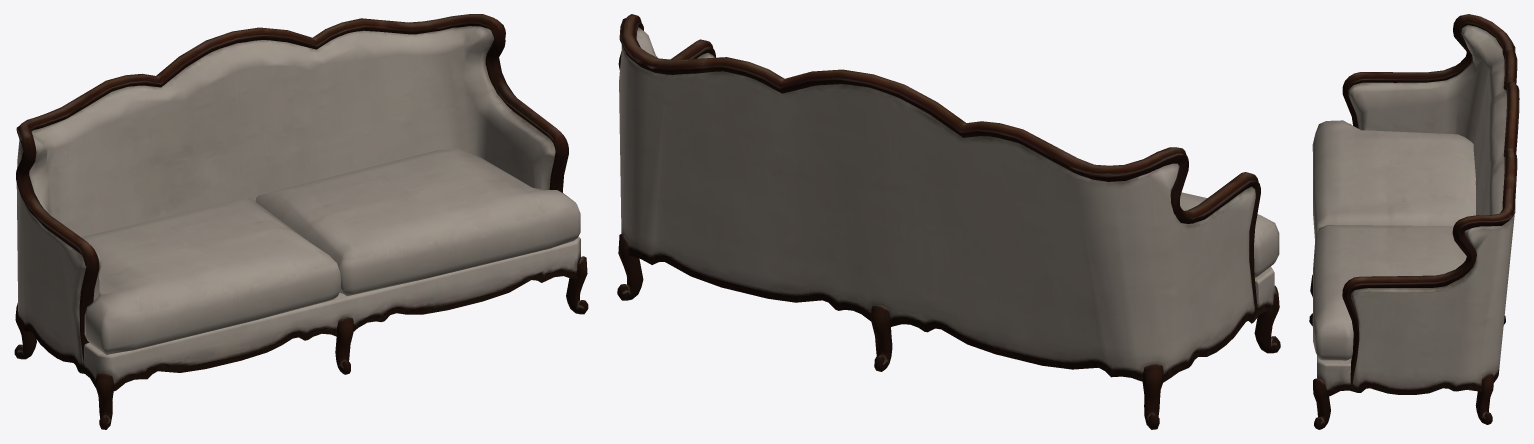
The model's file is sofa.glb.
The picture shows the model from 3 angles, left to right: view 1: azimuth 30°, elevation 25°; view 2: azimuth 150°, elevation 25°; view 3: azimuth 270°, elevation 25°; orthographic projection. The views are drawn at different scales.
Parts seen in each view (by area): view 1: Sofa_01; view 2: Sofa_01; view 3: Sofa_01.
Boxes of the visible parts, left/top/right/bottom form: Sofa_01: left=14, top=14, right=588, bottom=429; Sofa_01: left=617, top=14, right=1280, bottom=429; Sofa_01: left=1309, top=14, right=1519, bottom=429.
Bounding box in the file's own units: 1.57 × 0.7966 × 0.6579.
1 material, 1 textured.
